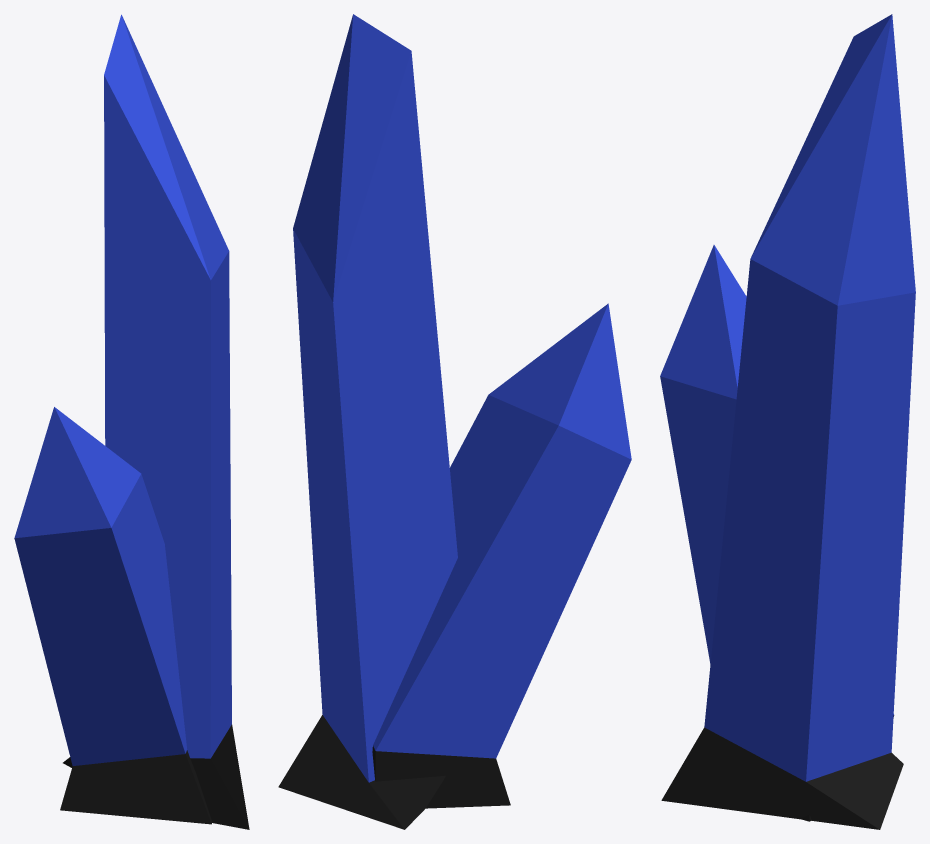
File: Crisal_2.fbx
The picture shows the model from 3 angles, left to right: view 1: azimuth 30°, elevation 25°; view 2: azimuth 150°, elevation 25°; view 3: azimuth 270°, elevation 25°; orthographic projection. The views are drawn at different scales.
Parts seen in each view (by area): view 1: cristal_2; view 2: cristal_2; view 3: cristal_2.
Boxes of the visible parts, <box> form: cristal_2: <box>14,14,249,829</box>; cristal_2: <box>278,14,631,829</box>; cristal_2: <box>660,14,915,829</box>.
Bounding box in the file's own units: 11.74 × 31.37 × 9.36.
